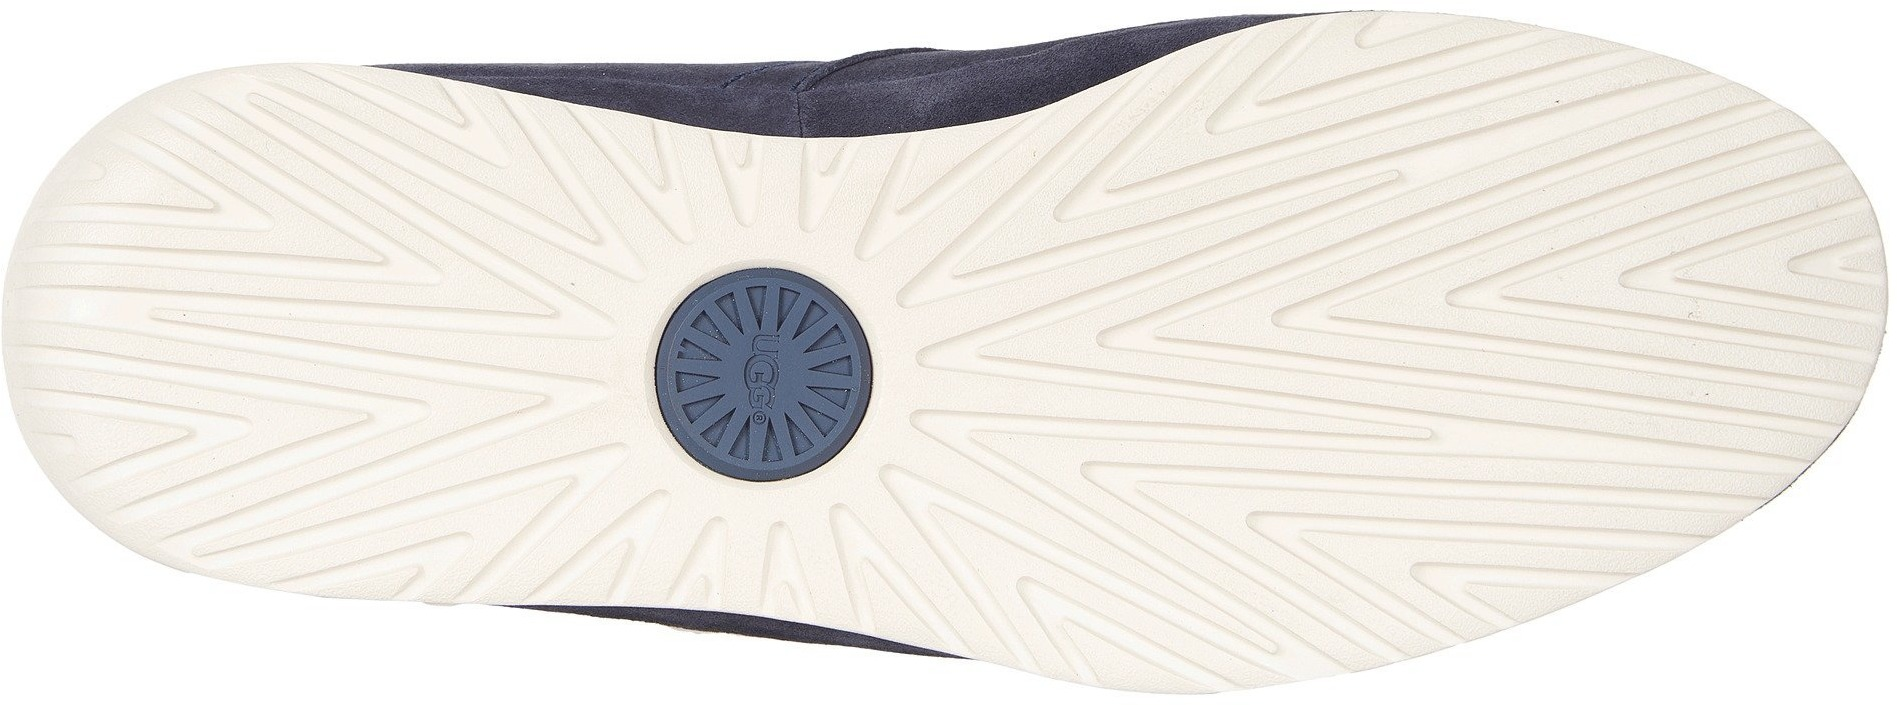chevron: (1325, 198, 1680, 510), (246, 127, 559, 400), (1002, 129, 1305, 411), (929, 411, 1205, 655), (353, 408, 578, 596), (1679, 187, 1879, 370), (59, 158, 246, 339)
text: (730, 334, 812, 409)
